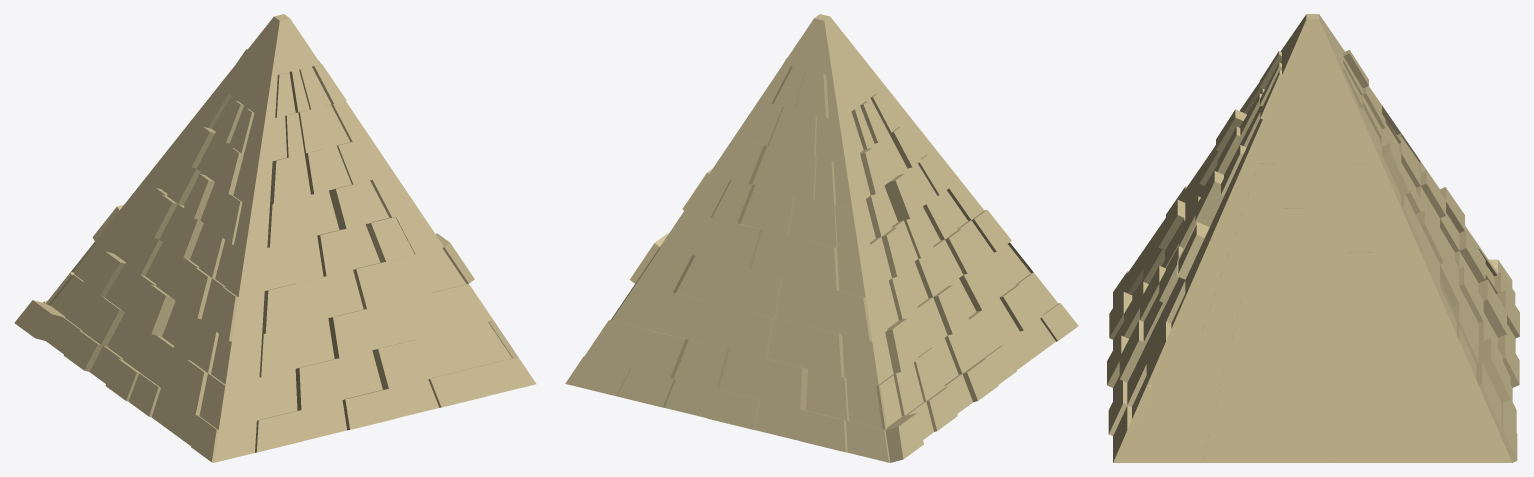
File: Piramide1.fbx
3 views of the same model, side by side, from view 1: azimuth 30°, elevation 25°; view 2: azimuth 150°, elevation 25°; view 3: azimuth 270°, elevation 25° (orthographic). The views are drawn at different scales.
Visible parts, largest first — view 1: Cube; view 2: Cube; view 3: Cube.
Part boxes in pixels (x1=…): Cube: x1=14, y1=14, x2=536, y2=462; Cube: x1=565, y1=14, x2=1078, y2=462; Cube: x1=1107, y1=14, x2=1519, y2=462.
Bounding box in the file's own units: 423 × 401 × 414.
Materials: 1 (1 with a texture image).
